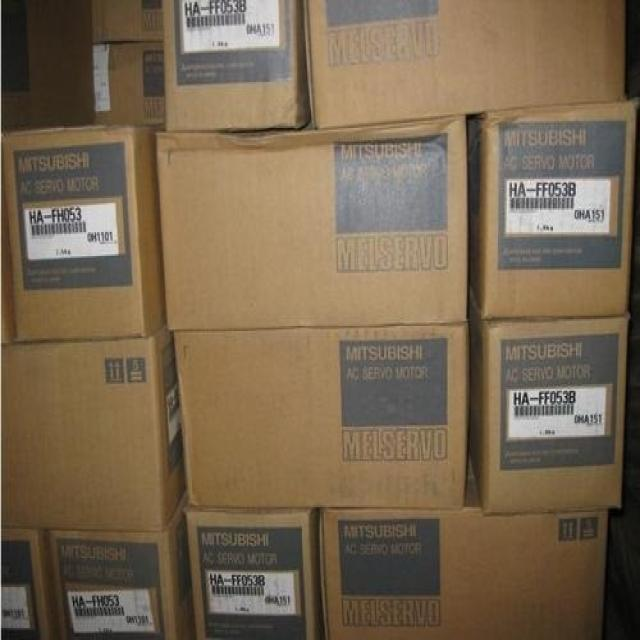box: (155, 120, 466, 333), (172, 325, 470, 509), (321, 459, 608, 638), (303, 1, 627, 131), (0, 325, 187, 530), (466, 102, 638, 320), (0, 123, 167, 344), (465, 289, 628, 511), (48, 492, 196, 638), (185, 493, 319, 638), (161, 1, 310, 130), (93, 42, 166, 126), (0, 528, 54, 638), (91, 0, 162, 43)
